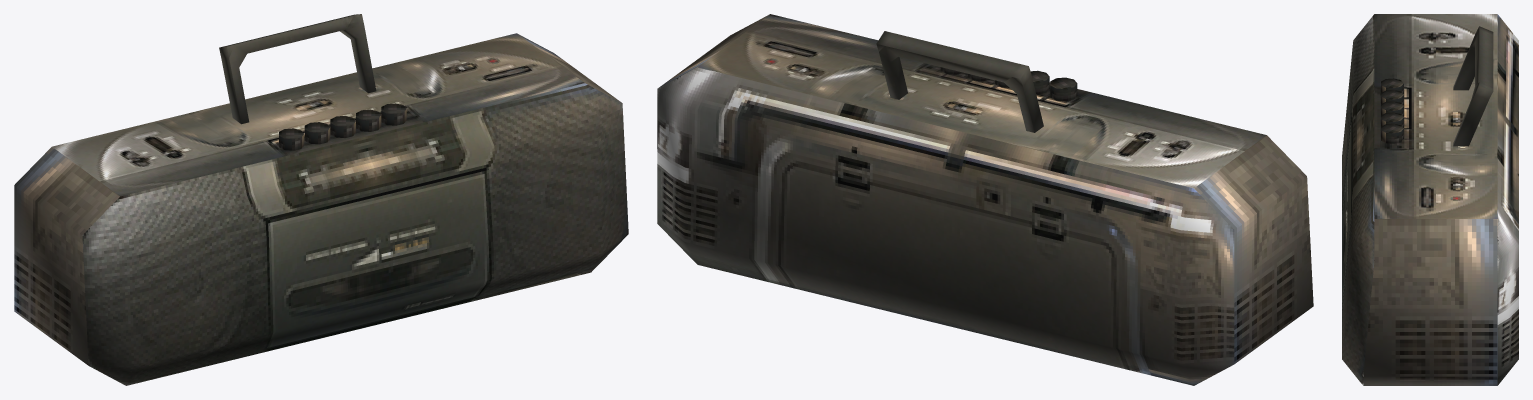
The model's file is radio.glb.
The picture shows the model from 3 angles, left to right: view 1: azimuth 30°, elevation 25°; view 2: azimuth 150°, elevation 25°; view 3: azimuth 270°, elevation 25°; orthographic projection. The views are drawn at different scales.
Visible parts, largest first — view 1: SM_Radio_03; view 2: SM_Radio_03; view 3: SM_Radio_03.
Boxes of the visible parts, x1,y1,x2,y2 form: SM_Radio_03: (14, 14, 628, 385); SM_Radio_03: (657, 14, 1313, 385); SM_Radio_03: (1342, 14, 1518, 385).
Size of the model in its own units: 0.6009 by 0.2677 by 0.1884.
Materials: 1 (1 with a texture image).
